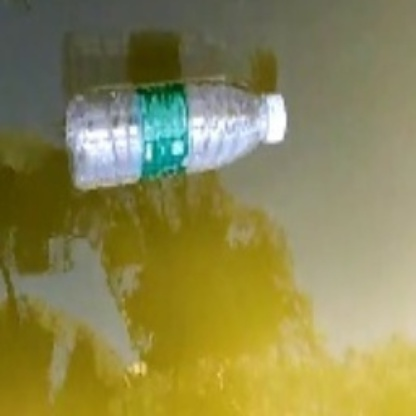bottle: (60, 82, 293, 191)
